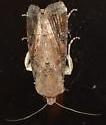army worm adult: (7, 1, 103, 122)
